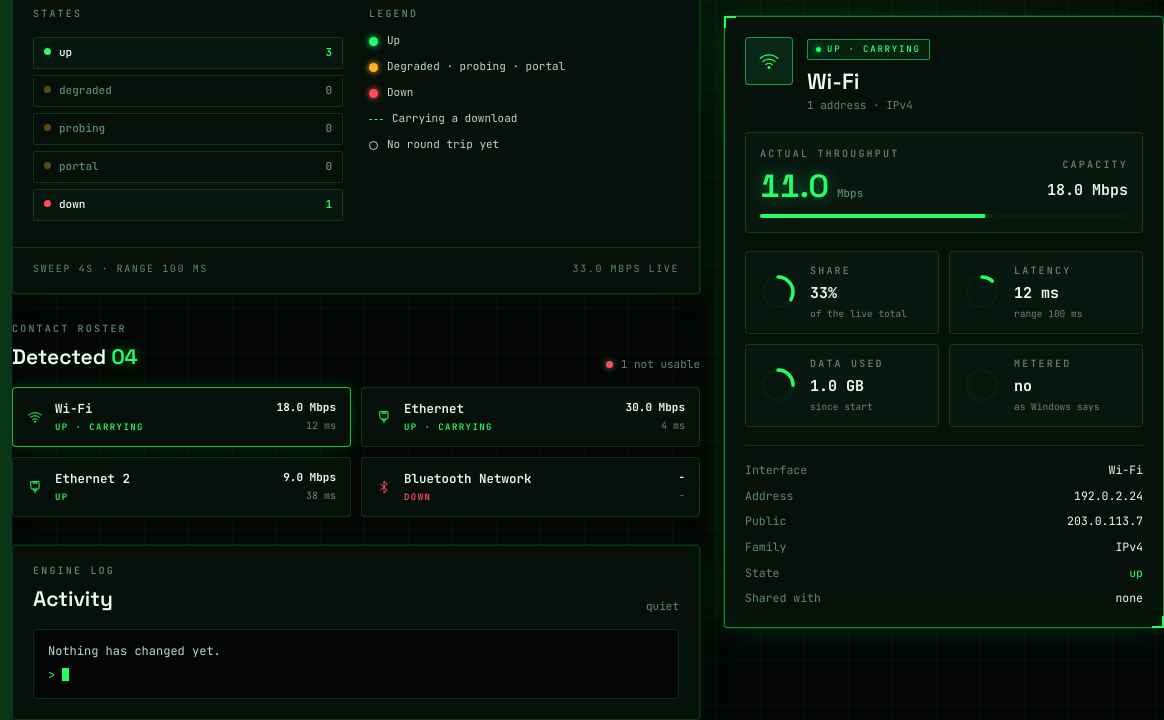
Test case: the roster counts the cables shown and those not usable, and a row selects
(page scrolled)
Expected: the heading "Detected 04" is shown, x1=12 y1=342 x2=138 y2=372
Expected: the element "Contact roster" shows "1 not usable", x1=621 y1=357 x2=700 y2=371
Click the button with aria-label "Ethernet 2:" at point(93, 478), box x1=12 y1=457 x2=351 y2=517
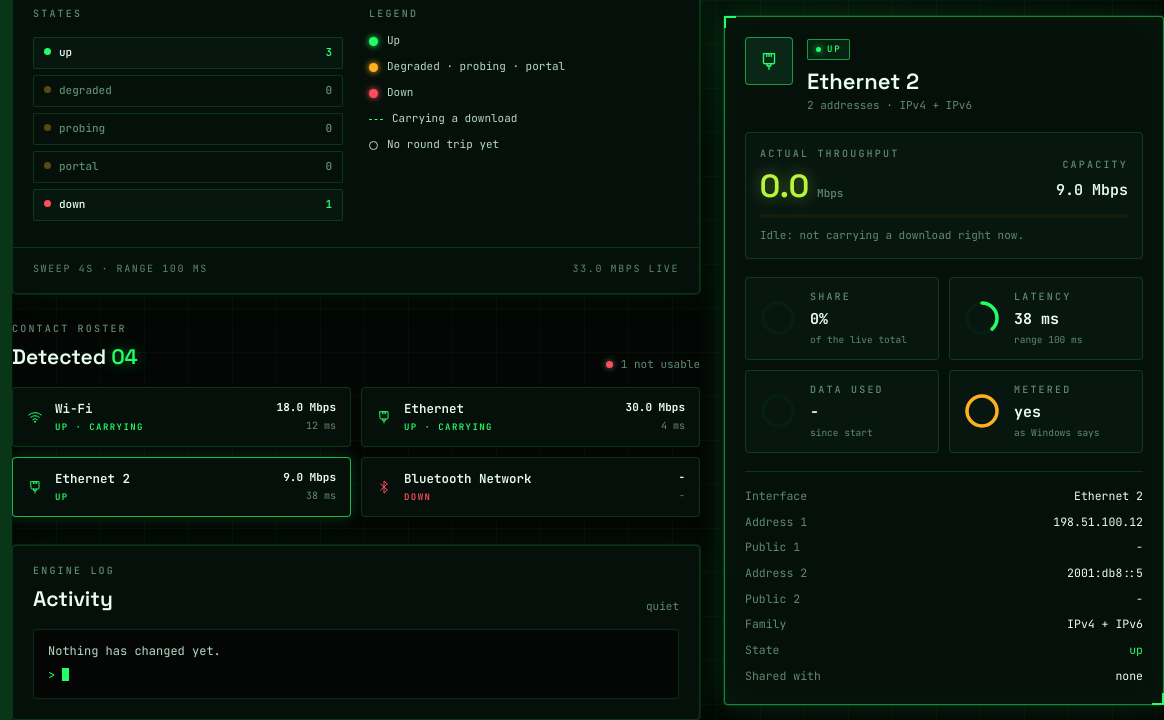
Now the heading "Ethernet 2" is shown, box x1=807 y1=67 x2=920 y2=95
